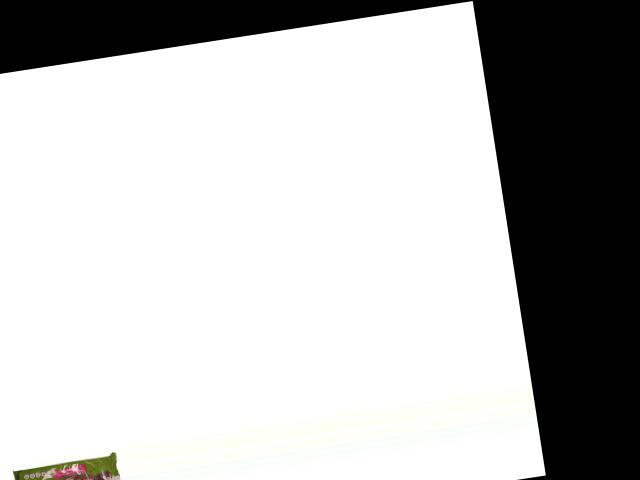chocolate: (9, 452, 123, 480)
